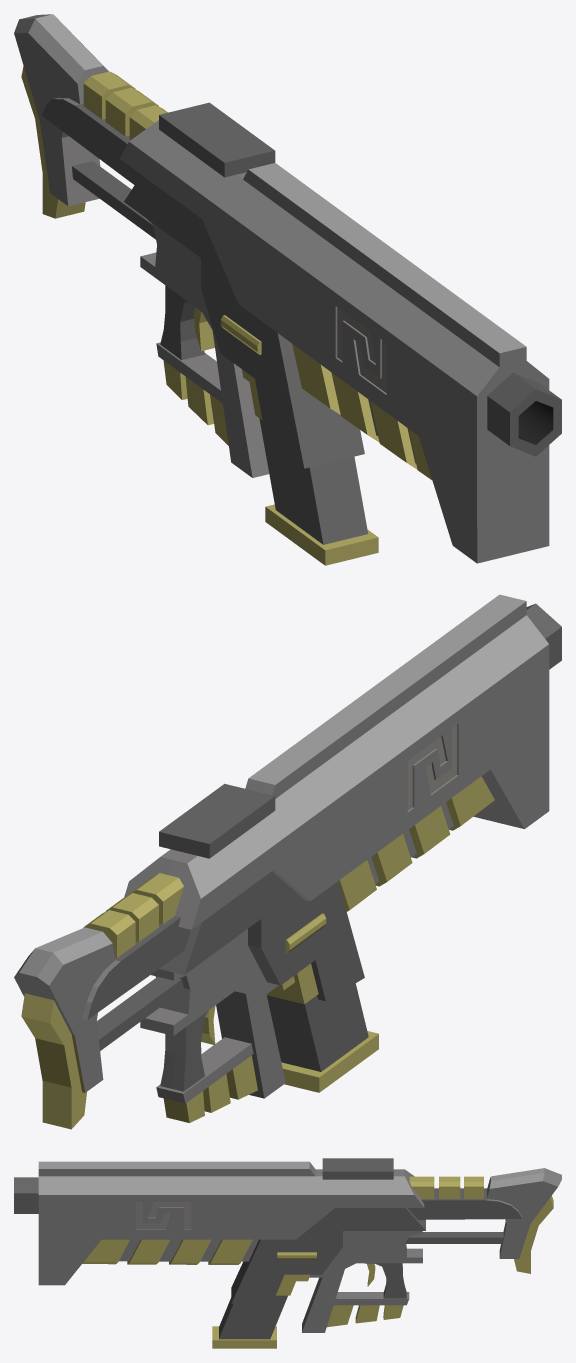
Rendered from Decimator.fbx.
3 renders of one model, top to bottom at view 1: azimuth 30°, elevation 25°; view 2: azimuth 150°, elevation 25°; view 3: azimuth 270°, elevation 25°, orthographic. The views are drawn at different scales.
Parts seen in each view (by area): view 1: Cube, Cube.001; view 2: Cube, Cube.001; view 3: Cube, Cube.001.
Boxes of the visible parts, x1=… form: Cube: x1=14, y1=14, x2=561, y2=563; Cube.001: x1=259, y1=418, x2=378, y2=565; Cube: x1=14, y1=594, x2=561, y2=1129; Cube.001: x1=267, y1=983, x2=378, y2=1092; Cube: x1=14, y1=1158, x2=561, y2=1332; Cube.001: x1=212, y1=1295, x2=287, y2=1348.
Size of the model in its own units: 53.5 by 232 by 653.
